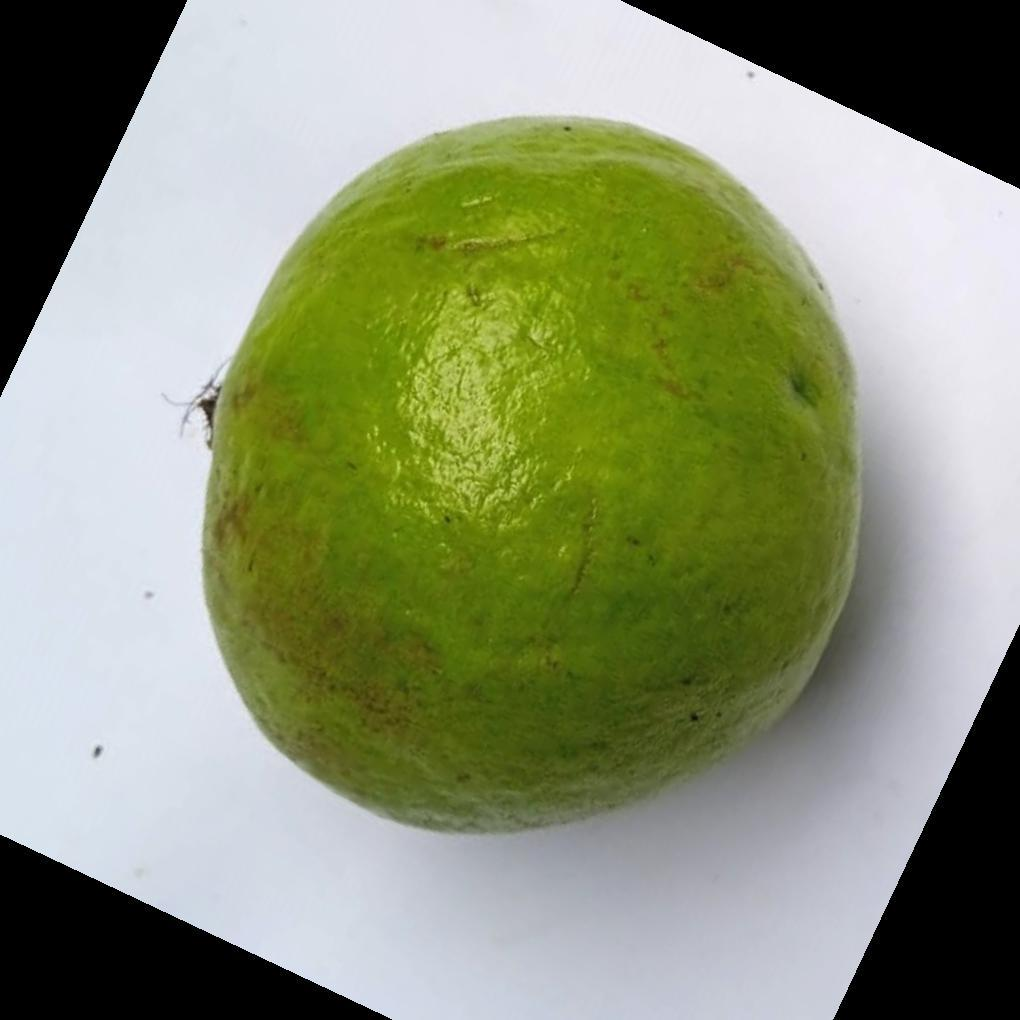FreshGuava: (199, 117, 864, 839)
